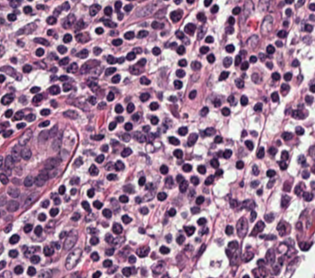nucleus: (81, 60, 98, 71), (63, 14, 75, 28), (44, 158, 59, 169), (52, 133, 61, 150), (170, 10, 182, 21), (38, 130, 49, 142), (294, 183, 305, 195), (38, 169, 49, 180), (133, 132, 145, 142), (187, 133, 197, 145), (242, 199, 254, 209), (63, 110, 77, 118), (89, 4, 99, 15), (185, 23, 195, 34), (34, 176, 44, 186), (130, 65, 141, 74), (34, 38, 48, 45), (103, 19, 115, 27), (292, 110, 304, 118), (202, 127, 214, 135), (179, 180, 187, 192), (281, 195, 289, 207), (75, 19, 84, 29), (78, 49, 88, 58), (67, 63, 77, 72), (49, 85, 59, 94), (32, 94, 42, 103), (115, 160, 124, 170), (89, 165, 98, 175), (303, 192, 313, 201), (49, 125, 57, 136), (168, 136, 179, 144), (151, 21, 163, 28), (107, 55, 116, 64), (219, 71, 228, 80), (222, 149, 231, 158), (46, 16, 56, 24), (124, 31, 134, 39), (223, 57, 231, 67), (105, 67, 115, 75), (281, 84, 289, 94), (120, 133, 130, 141), (121, 148, 131, 156), (205, 175, 213, 185), (123, 185, 133, 193), (82, 201, 90, 211), (257, 147, 264, 158), (197, 12, 205, 21), (225, 44, 234, 52), (57, 45, 66, 53), (126, 52, 135, 60), (59, 57, 68, 65), (191, 61, 200, 69), (235, 79, 243, 88), (140, 93, 149, 101), (295, 126, 303, 135), (178, 127, 187, 135), (282, 132, 291, 140), (245, 140, 253, 149), (173, 149, 182, 157), (210, 159, 218, 168), (266, 169, 275, 177), (190, 176, 198, 185), (157, 192, 166, 200), (102, 209, 111, 217), (137, 30, 147, 37), (240, 95, 247, 105), (281, 150, 288, 160), (298, 155, 305, 165), (165, 176, 172, 186), (283, 181, 290, 191), (250, 210, 256, 221), (232, 6, 240, 14), (63, 34, 71, 42), (266, 45, 274, 53), (152, 47, 160, 55), (137, 58, 145, 66), (176, 69, 184, 77), (271, 72, 279, 80), (111, 75, 119, 83), (174, 80, 182, 88), (63, 83, 71, 91), (88, 96, 96, 104), (200, 107, 208, 115), (221, 107, 229, 115), (150, 116, 158, 124), (124, 122, 132, 130), (268, 147, 276, 155), (74, 158, 82, 166), (279, 161, 287, 169), (197, 165, 205, 173), (176, 175, 184, 183), (50, 208, 58, 216), (104, 6, 111, 15), (277, 30, 286, 37), (177, 45, 184, 54), (140, 77, 149, 84), (189, 90, 196, 99), (271, 92, 278, 101), (305, 95, 312, 104), (149, 102, 158, 109), (127, 103, 134, 112), (115, 104, 122, 113), (109, 121, 116, 130), (182, 164, 191, 171), (58, 185, 65, 194), (119, 195, 128, 202), (39, 120, 49, 126), (91, 134, 103, 139), (252, 165, 258, 175), (62, 2, 69, 10), (124, 4, 132, 11), (304, 24, 312, 31), (200, 46, 208, 53), (93, 47, 101, 54), (36, 48, 43, 56), (207, 54, 214, 62), (178, 59, 186, 66), (241, 61, 248, 69), (284, 72, 291, 80), (107, 92, 114, 100), (254, 103, 261, 111), (147, 134, 154, 142), (214, 136, 222, 143), (95, 155, 103, 162), (236, 160, 243, 168), (160, 165, 167, 173), (138, 177, 145, 185), (196, 196, 203, 204), (230, 199, 237, 207), (41, 200, 49, 207), (93, 201, 101, 208), (140, 207, 148, 214), (168, 208, 175, 216), (115, 1, 121, 10), (112, 39, 121, 45), (252, 73, 258, 82), (228, 95, 234, 104), (40, 109, 49, 115), (107, 174, 116, 180), (235, 55, 240, 65), (211, 5, 218, 12), (226, 26, 233, 33), (95, 27, 102, 34), (176, 31, 183, 38), (132, 113, 139, 120), (215, 169, 222, 176), (251, 180, 258, 187), (267, 180, 274, 187), (87, 189, 94, 196), (38, 213, 45, 220), (228, 16, 234, 24), (205, 36, 213, 42), (133, 48, 141, 54), (116, 57, 124, 63), (302, 170, 308, 178), (70, 177, 78, 183), (191, 207, 199, 213), (30, 87, 39, 92), (204, 0, 211, 6), (285, 8, 291, 15), (292, 59, 298, 66), (214, 99, 220, 106), (98, 102, 105, 108), (116, 116, 123, 122), (101, 144, 107, 151), (54, 197, 60, 204), (59, 75, 67, 80), (309, 84, 314, 92), (250, 56, 256, 62), (266, 62, 272, 68), (143, 125, 149, 131), (106, 163, 112, 169), (309, 3, 314, 10), (169, 96, 176, 101), (51, 100, 56, 107), (276, 41, 282, 46), (240, 50, 246, 55), (51, 53, 57, 58), (39, 62, 45, 67), (241, 130, 246, 136), (111, 140, 117, 145), (70, 189, 76, 194), (257, 189, 262, 195), (169, 43, 176, 47), (259, 53, 263, 60), (135, 197, 140, 202), (54, 9, 59, 13), (118, 14, 122, 19), (283, 21, 287, 26), (47, 30, 52, 34), (251, 131, 256, 135), (146, 184, 151, 188), (174, 0, 180, 3), (187, 0, 193, 3), (37, 5, 43, 8), (51, 76, 55, 80), (298, 1, 303, 4), (51, 68, 56, 71), (285, 1, 292, 3)
